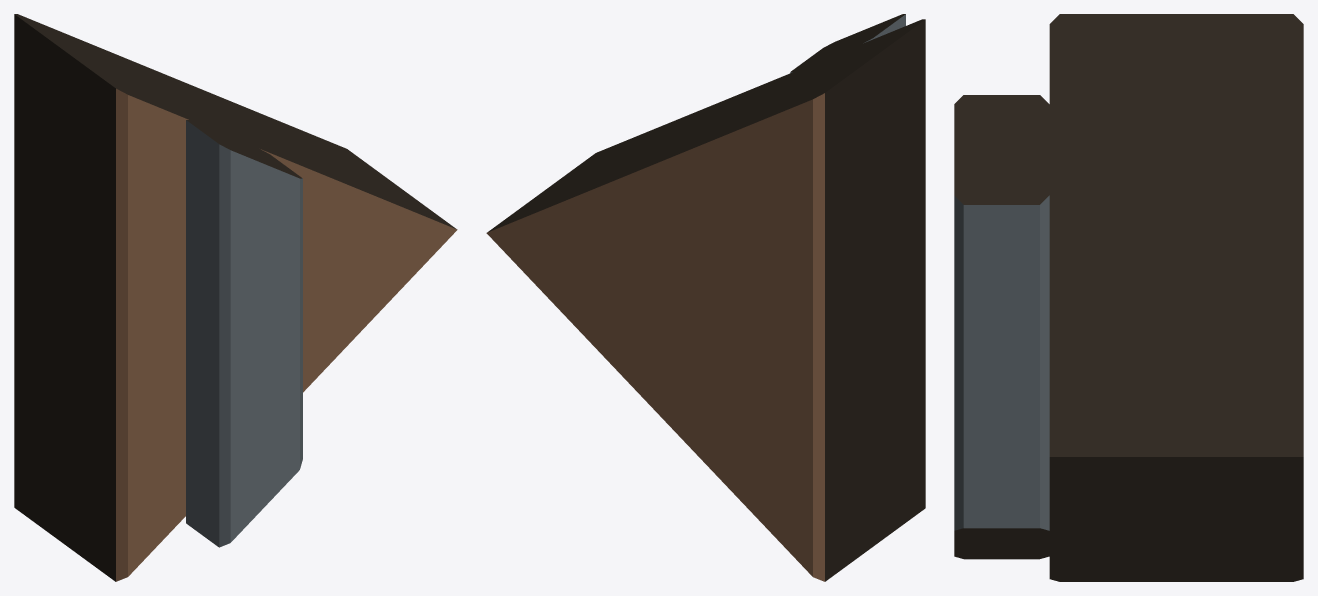
The model's file is SM_DoorShard_02_27.fbx.
3 views of the same model, side by side, from view 1: azimuth 30°, elevation 25°; view 2: azimuth 150°, elevation 25°; view 3: azimuth 270°, elevation 25° (orthographic). The views are drawn at different scales.
Parts seen in each view (by area): view 1: SM_DoorShard_02_27; view 2: SM_DoorShard_02_27; view 3: SM_DoorShard_02_27.
Part boxes in pixels (box(x1,y1,x2,y2)): SM_DoorShard_02_27: box(14, 14, 457, 581); SM_DoorShard_02_27: box(486, 14, 925, 581); SM_DoorShard_02_27: box(954, 14, 1303, 581).
Bounding box in the file's own units: 28.21 × 22 × 39.44.
